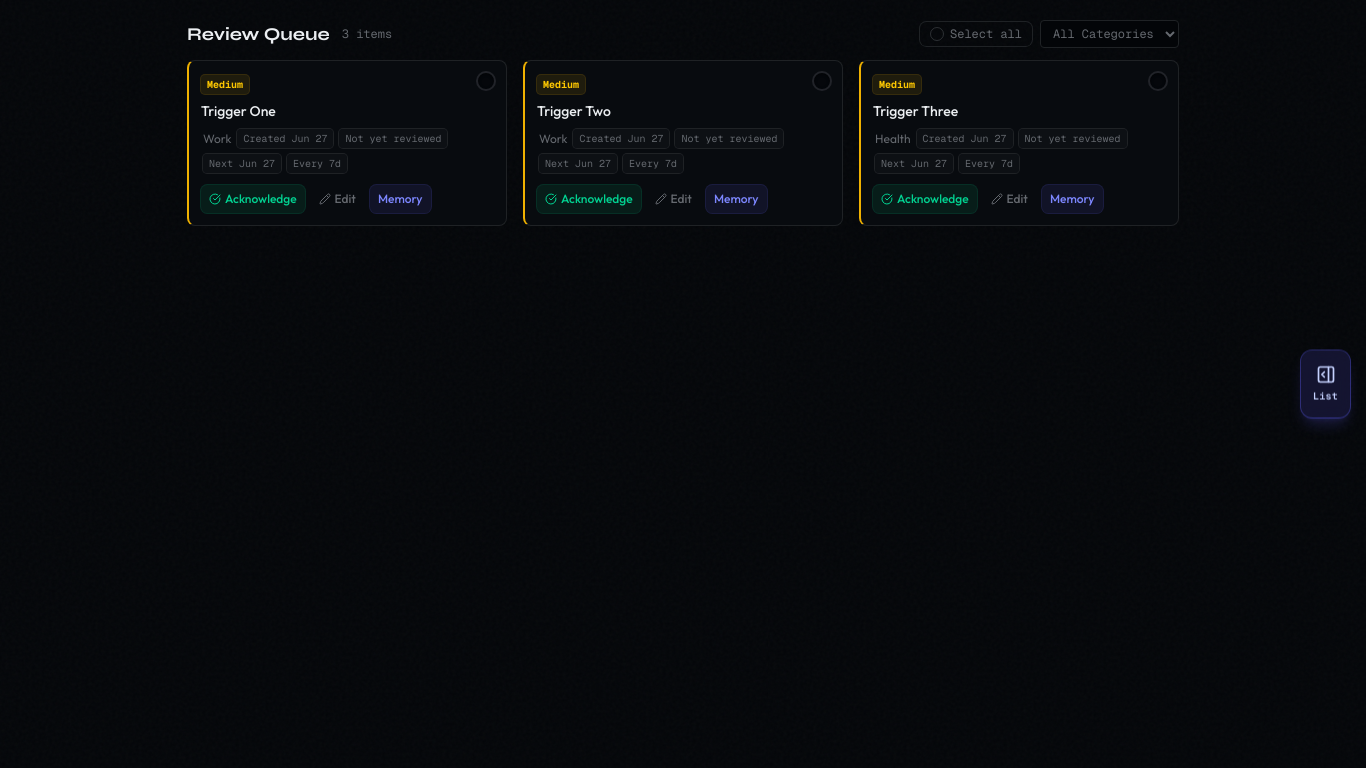
ReviewQueueClient › drawer opens when hamburger tab is clicked
# Drawer cards should be present in DOM but hidden (translate-x-full)
Click the button with aria-label "open list" at (1326, 384), box [1301,350,1350,418]
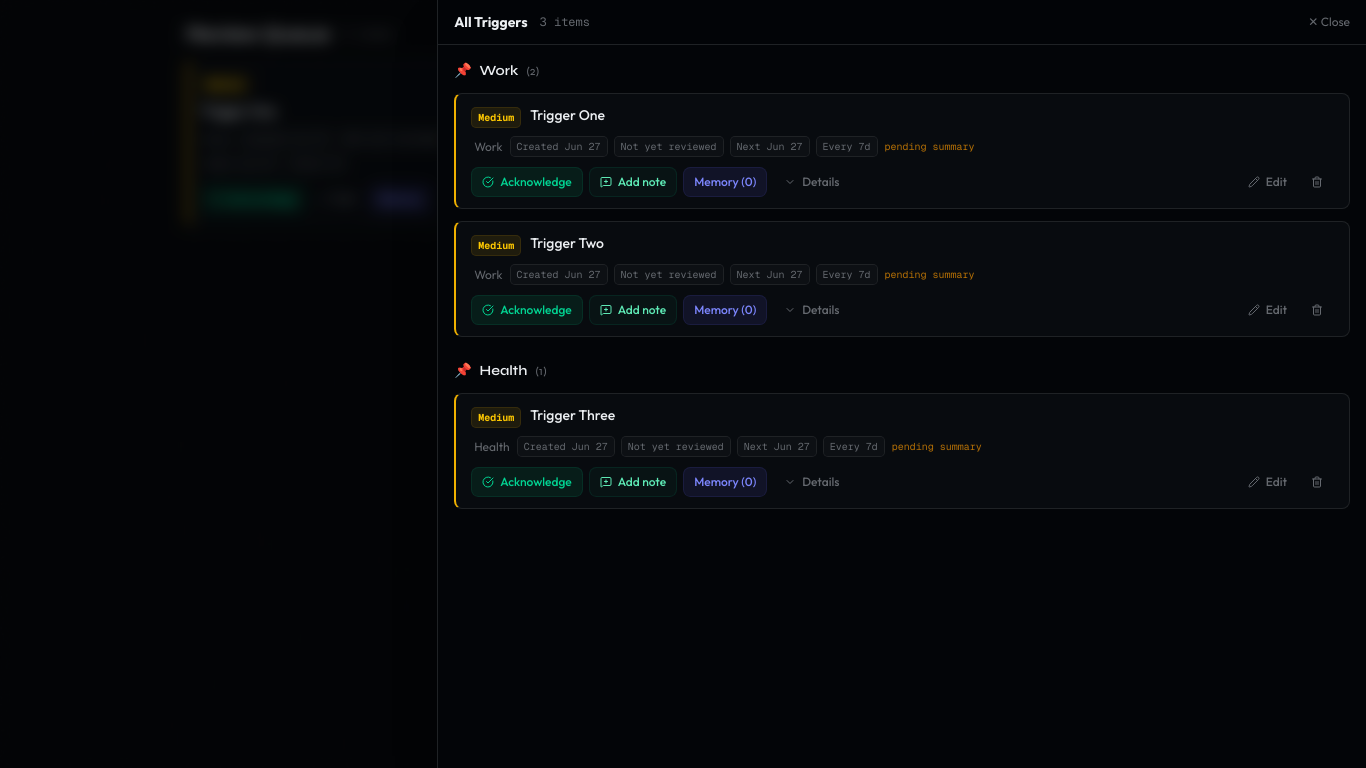
Expected: the button with aria-label "close list" is shown, [1308,14,1350,30]
